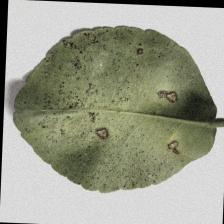canker: (52, 44, 114, 99)
